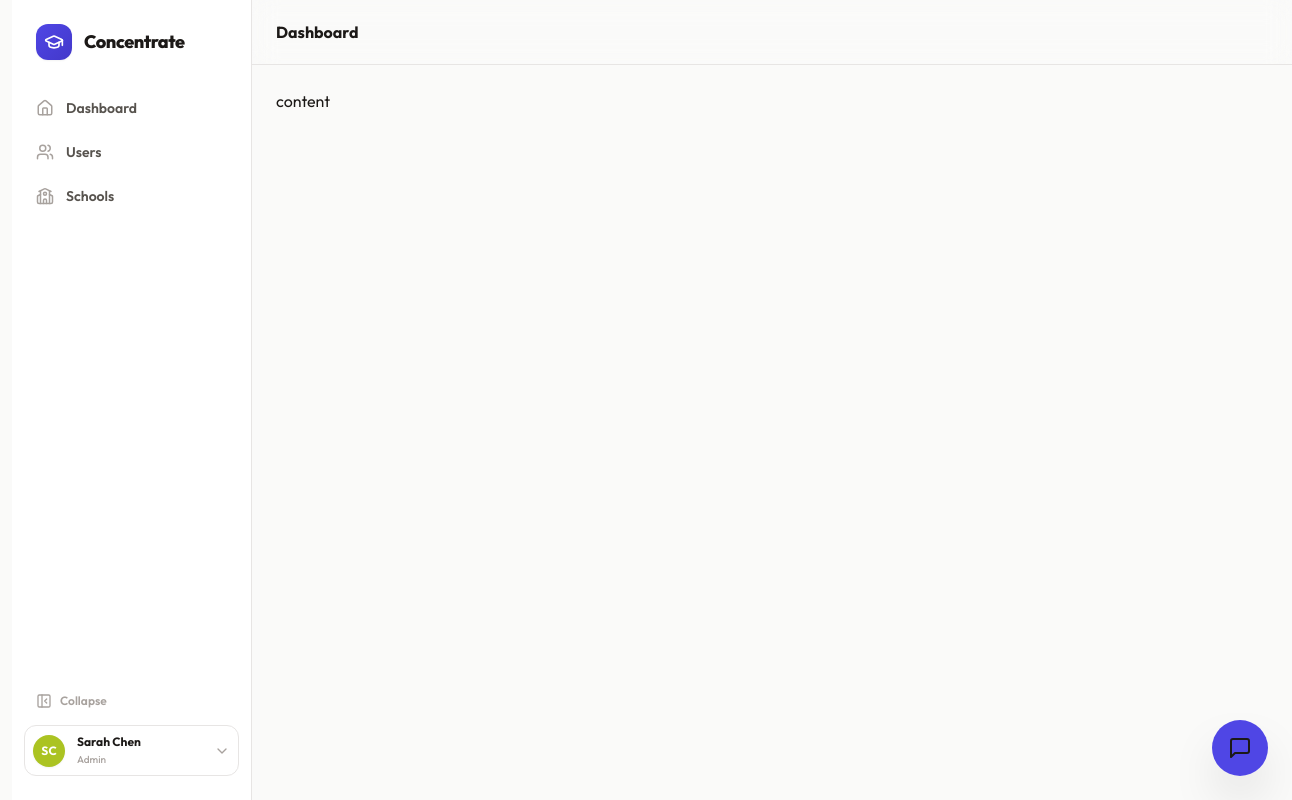
Test: DashboardLayout › collapses and expands the sidebar
Click the button titled "Collapse sidebar". click: (132, 701)
box: [24,685,239,717]
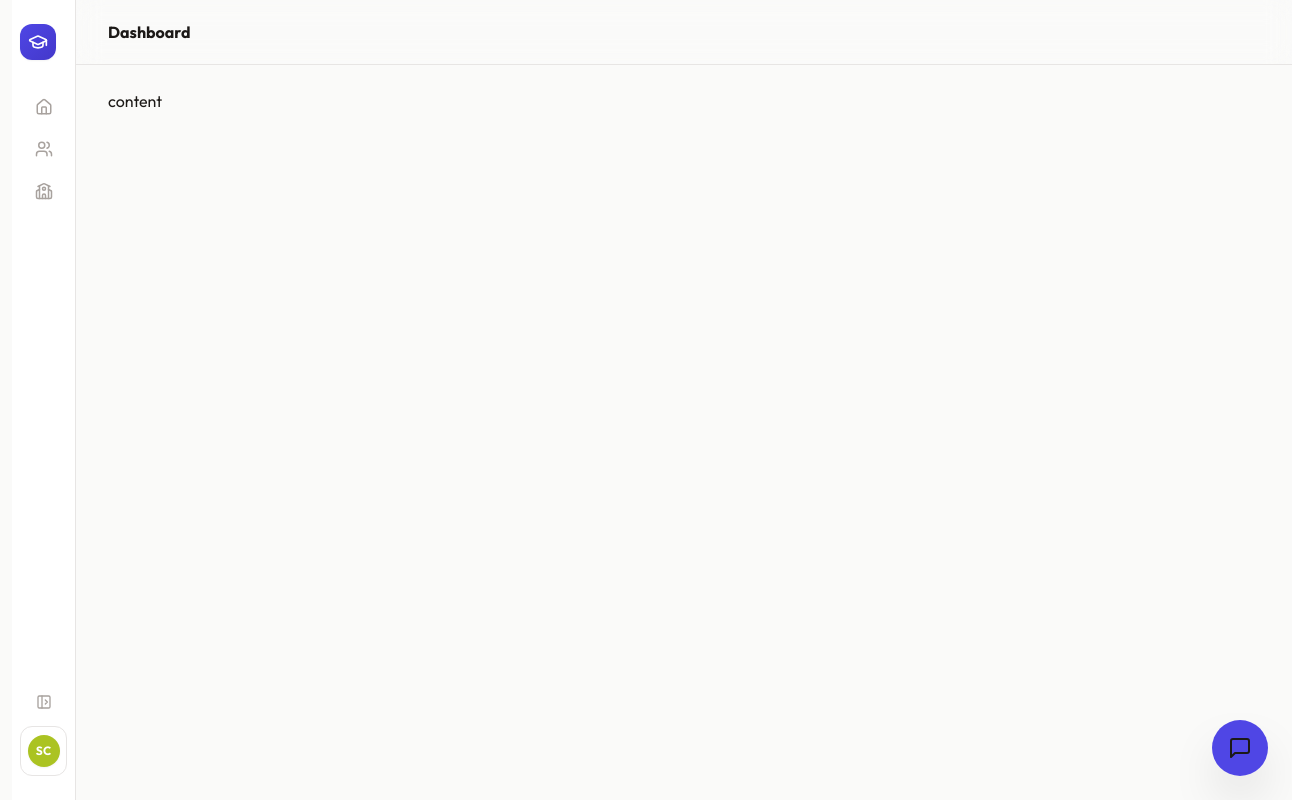
Expected: the button titled "Expand sidebar" is shown, [20,686,67,718]
